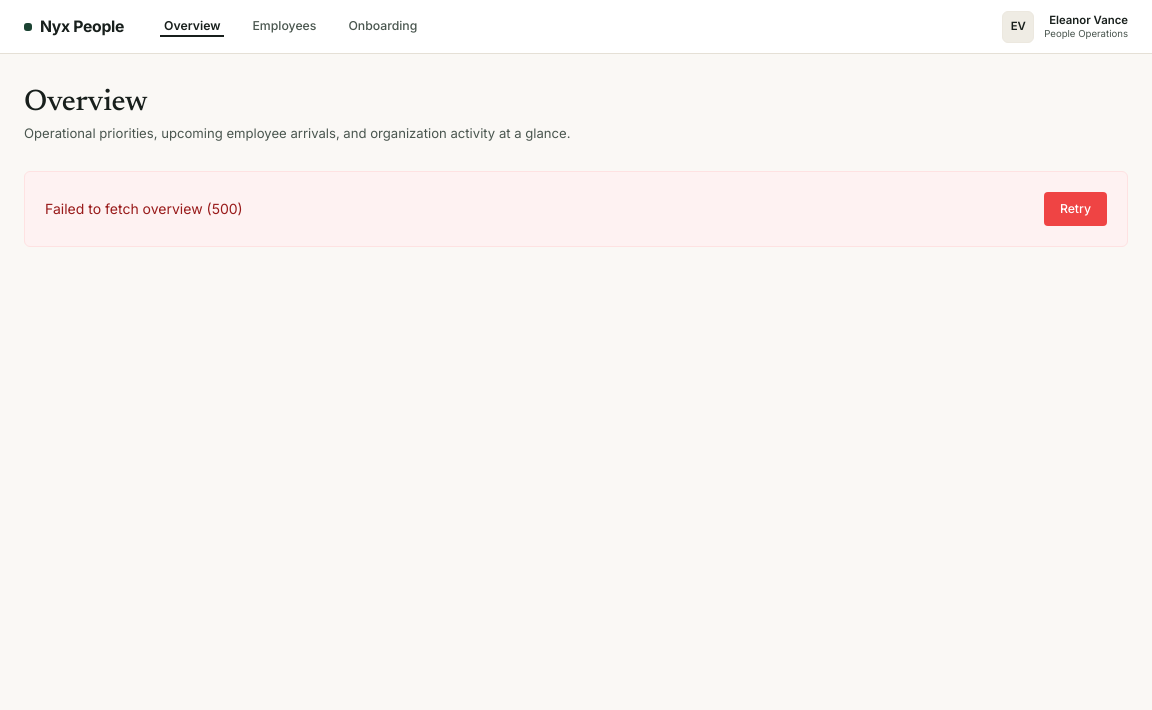
it: OverviewPage Integration › displays error banner with retry option when overview request fails
Expected: the message "Failed to fetch overview (500) Retry" is shown, [24,171,1128,247]
Expected: the text "Failed to fetch overview (500)" is shown, [45,198,243,219]
Click the button "Retry". click: point(1075, 209)
box: [1044,192,1107,226]
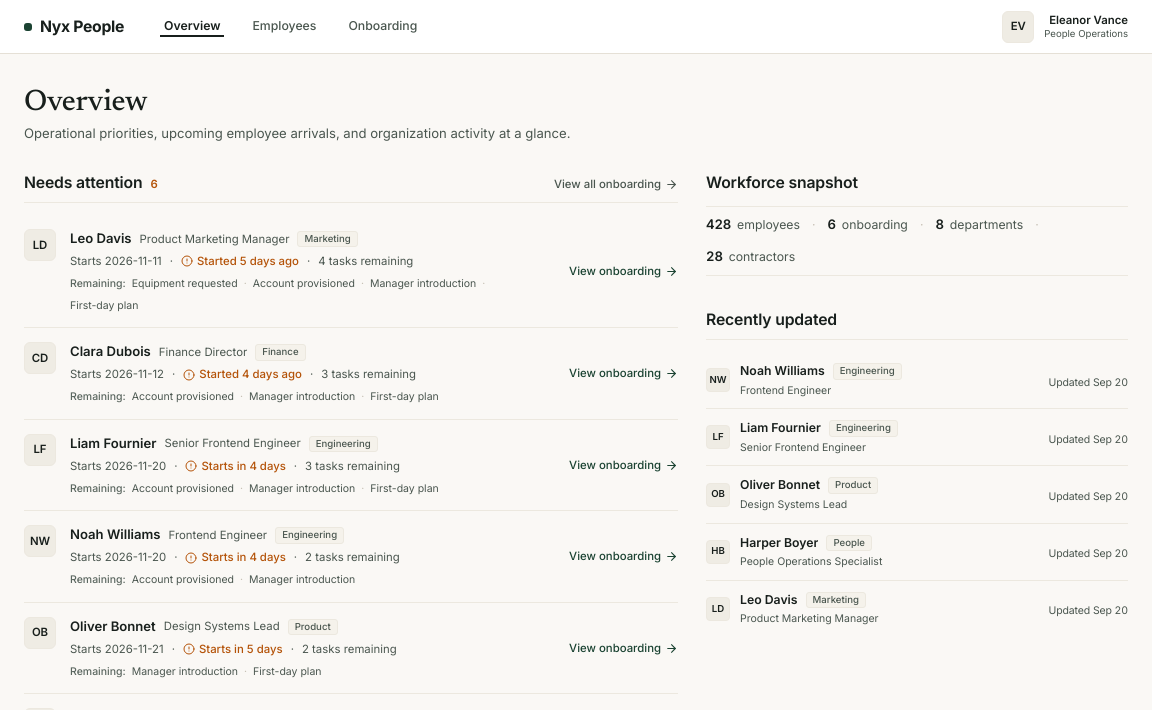
Expected: the heading "Needs attention" is shown, [24,171,142,194]
